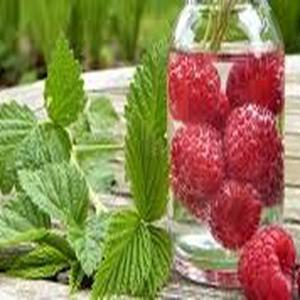raspb: (170, 57, 300, 300)
